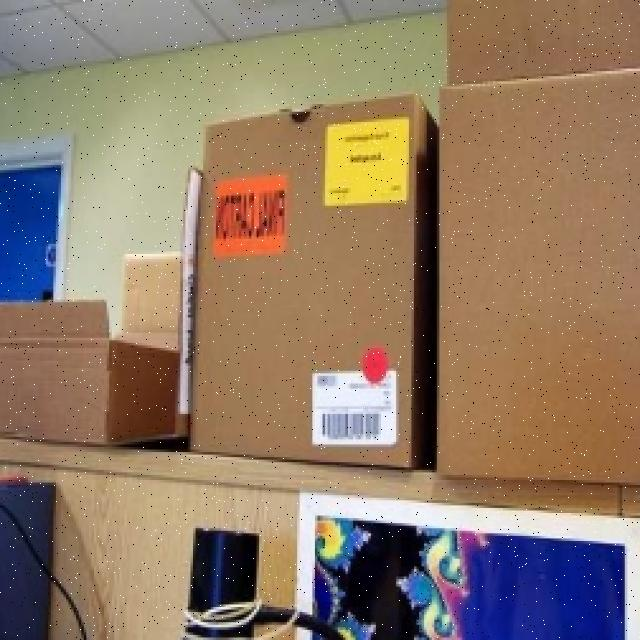box: (190, 91, 426, 466), (437, 56, 640, 477), (0, 249, 191, 437), (444, 0, 640, 74)
